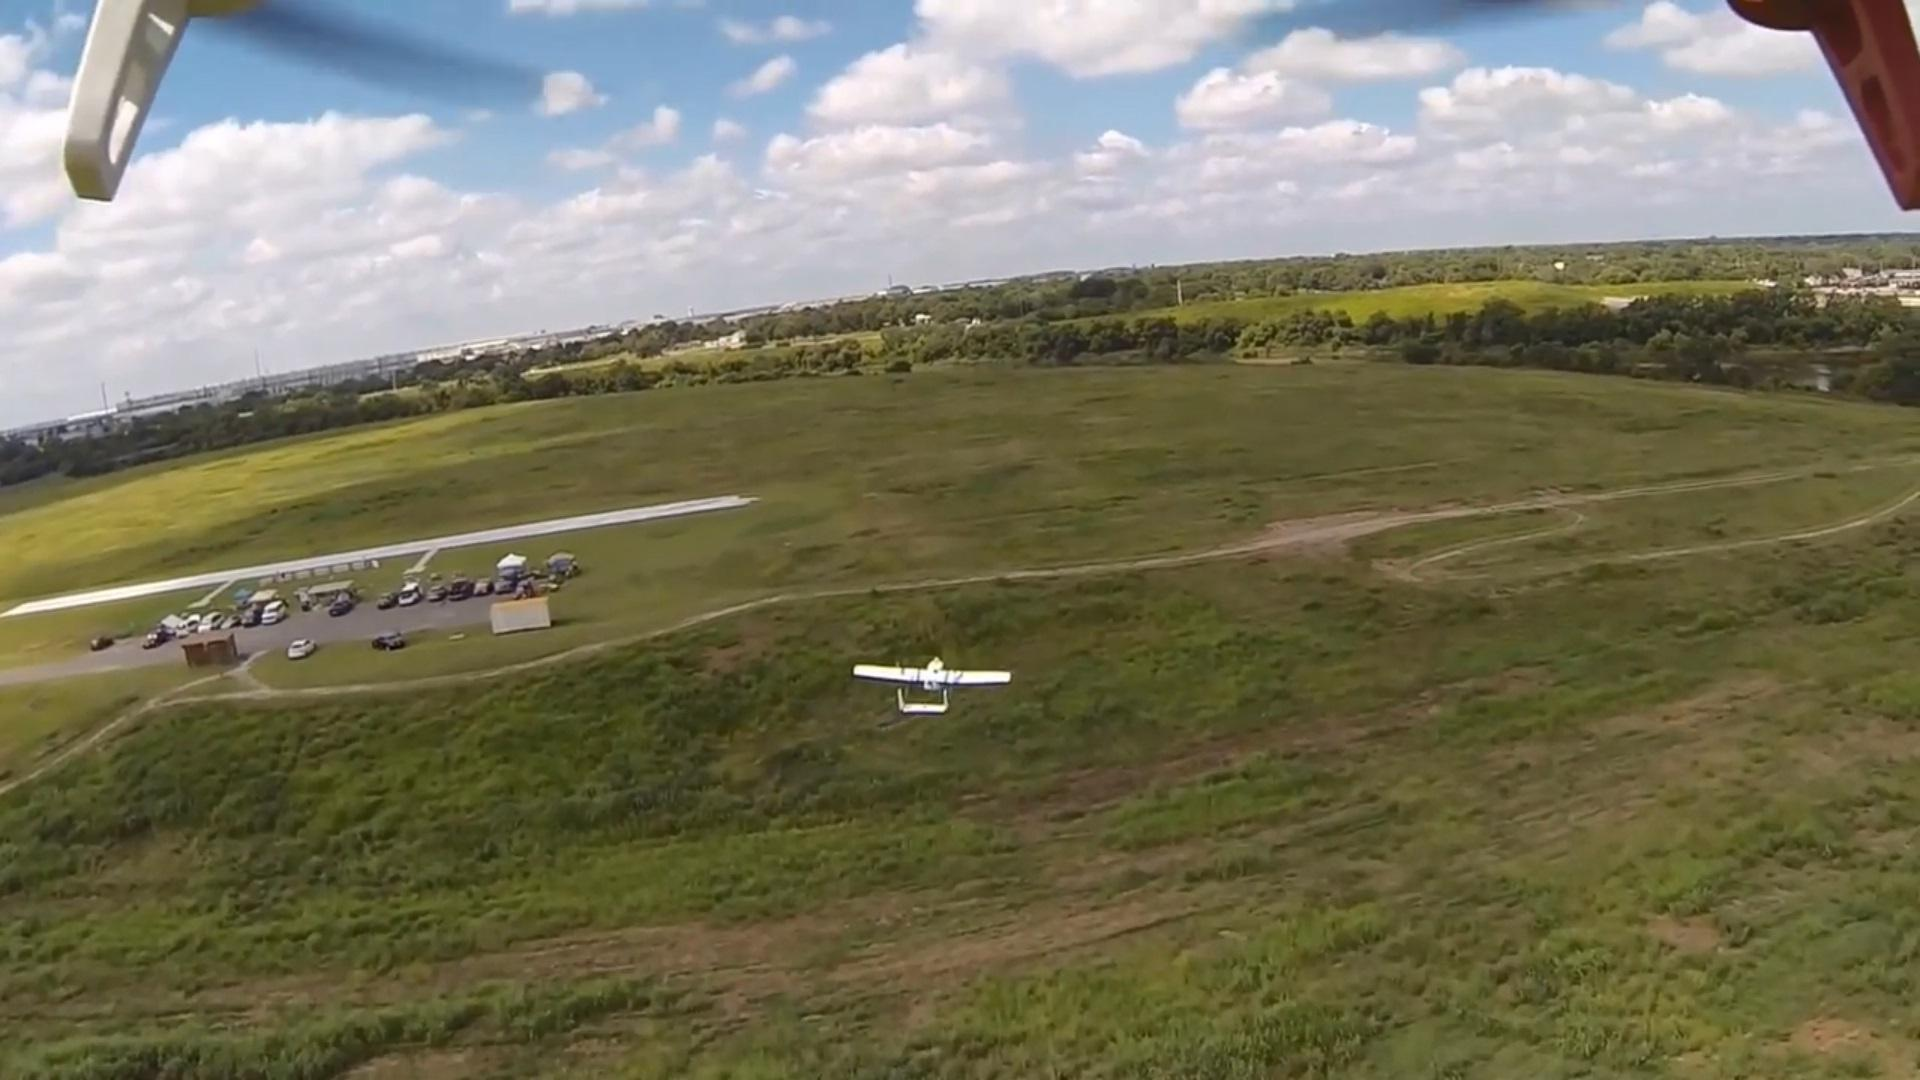Airplane: (844, 633, 1022, 727)
